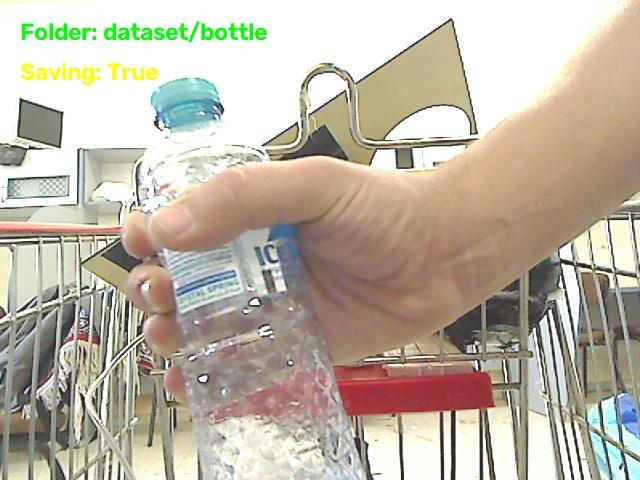Bottle: (159, 225, 363, 479), (138, 78, 268, 211)
